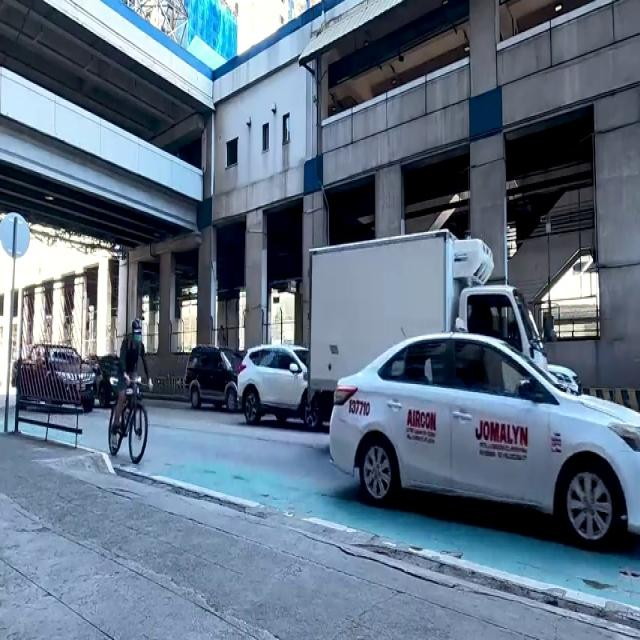car: (329, 331, 640, 548), (237, 348, 329, 436), (178, 336, 246, 415), (26, 349, 98, 411)
truck: (305, 252, 560, 439)
